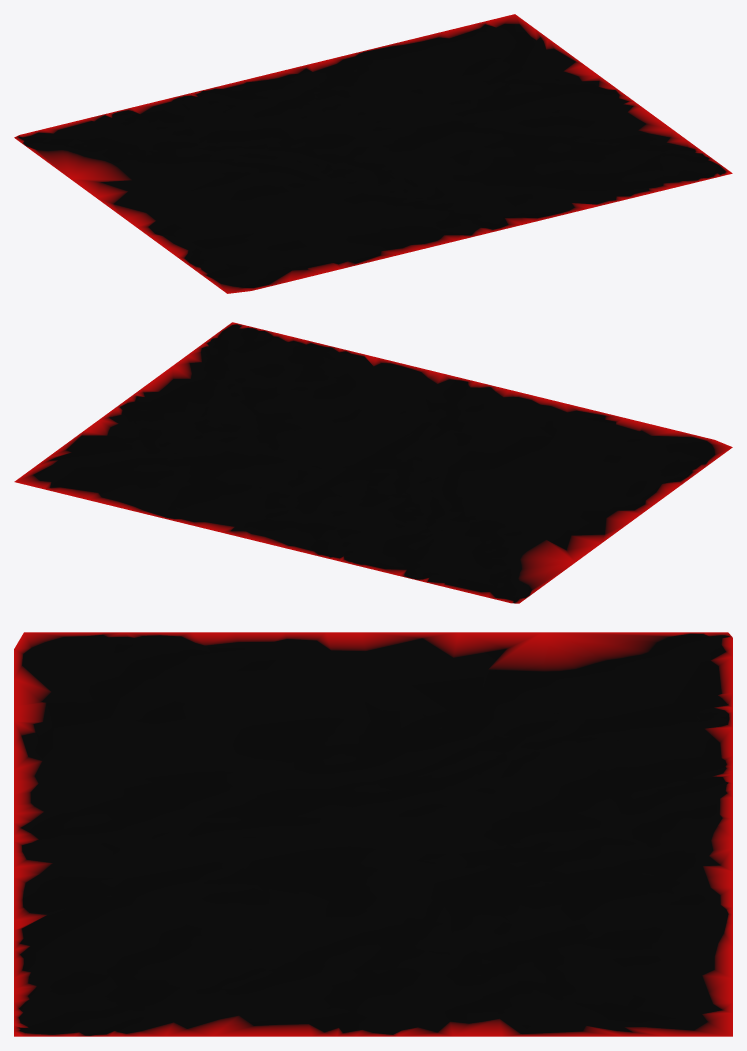
Rendered from SM_Terrain_Hanoi_01.fbx.
3 views of the same model, one above another, from view 1: azimuth 30°, elevation 25°; view 2: azimuth 150°, elevation 25°; view 3: azimuth 270°, elevation 25° (orthographic). The views are drawn at different scales.
Parts seen in each view (by area): view 1: SM_Terrain_West, SM_Terrain_HanoiCity; view 2: SM_Terrain_West, SM_Terrain_HanoiCity; view 3: SM_Terrain_West, SM_Terrain_HanoiCity.
Part boxes in pixels (bbox=[...]): SM_Terrain_West: bbox=[20, 14, 732, 228]; SM_Terrain_HanoiCity: bbox=[14, 135, 504, 293]; SM_Terrain_West: bbox=[14, 322, 509, 602]; SM_Terrain_HanoiCity: bbox=[434, 378, 732, 603]; SM_Terrain_West: bbox=[14, 638, 732, 1036]; SM_Terrain_HanoiCity: bbox=[14, 632, 732, 854].
Bounding box in the file's own units: 719000 × 1599 × 540000.
